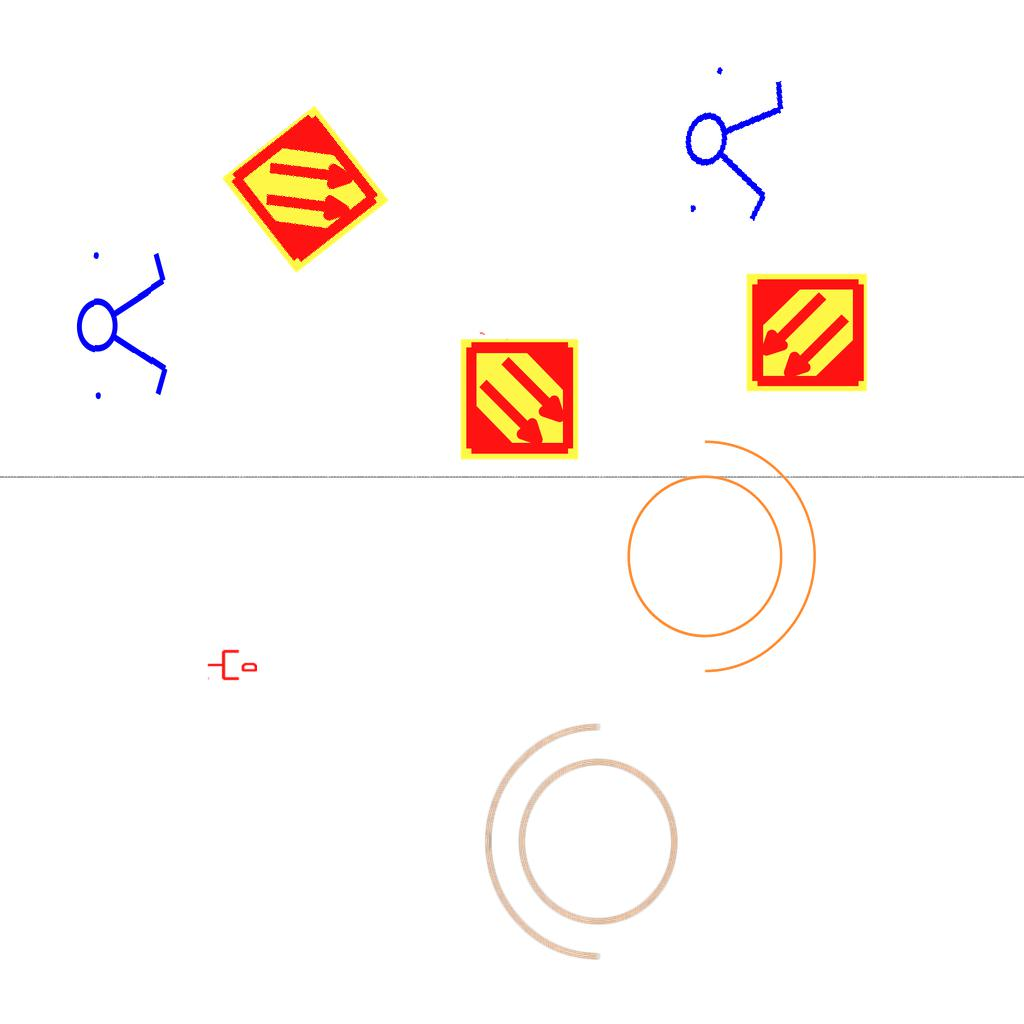ASR_Ansaugrauchmelder: (217, 101, 394, 278), (744, 270, 869, 395), (457, 337, 582, 462)
Datenanschluss_einfach: (448, 328, 543, 444), (207, 648, 257, 682)
Scheinwerfer_fuer_Alarmbeleuchtung: (602, 418, 827, 682), (476, 716, 701, 980)
Serienschalter: (668, 51, 796, 235), (73, 239, 173, 409)
